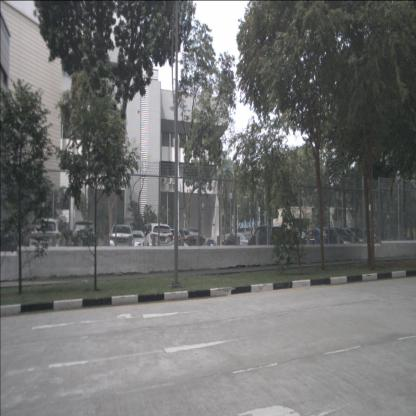vehicle-car: (29, 218, 66, 252), (321, 225, 358, 253), (249, 226, 286, 254), (70, 220, 98, 251), (143, 223, 174, 250), (174, 226, 205, 251), (110, 224, 134, 252), (287, 227, 316, 250), (303, 228, 332, 249), (334, 226, 363, 247), (226, 232, 250, 250), (130, 230, 147, 250), (206, 238, 218, 252)
